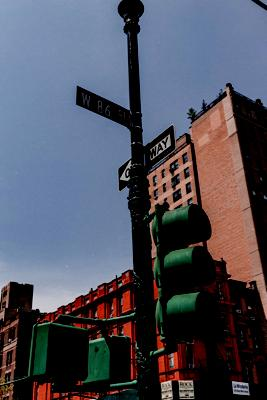International Road Signal Light: (146, 199, 225, 343)
